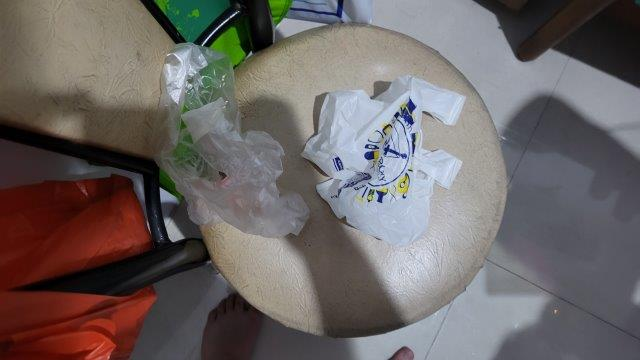plastik: (150, 43, 305, 244), (305, 76, 467, 247)
